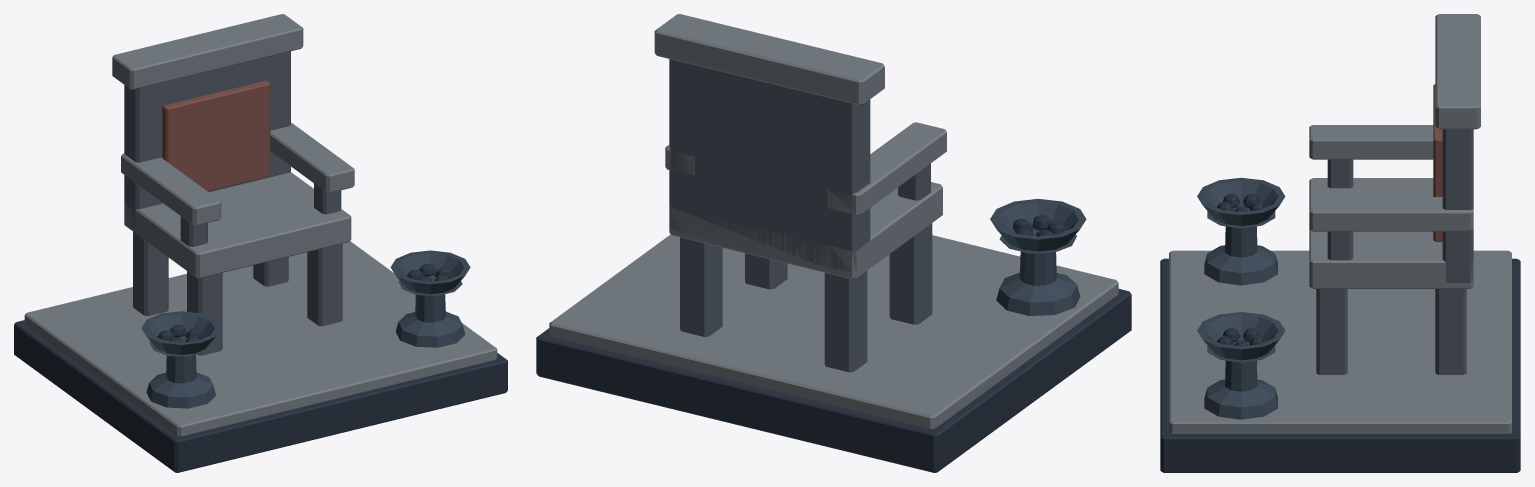
The model's file is throne-dais.glb.
3 views of the same model, side by side, from view 1: azimuth 30°, elevation 25°; view 2: azimuth 150°, elevation 25°; view 3: azimuth 270°, elevation 25° (orthographic). The views are drawn at different scales.
Visible parts, largest first — view 1: throne-dais__body; view 2: throne-dais__body; view 3: throne-dais__body.
Boxes of the visible parts, <box> form: throne-dais__body: <box>14,14,507,472</box>; throne-dais__body: <box>536,14,1131,472</box>; throne-dais__body: <box>1160,14,1520,472</box>.
Size of the model in its own units: 1.5 by 1.26 by 1.27.
